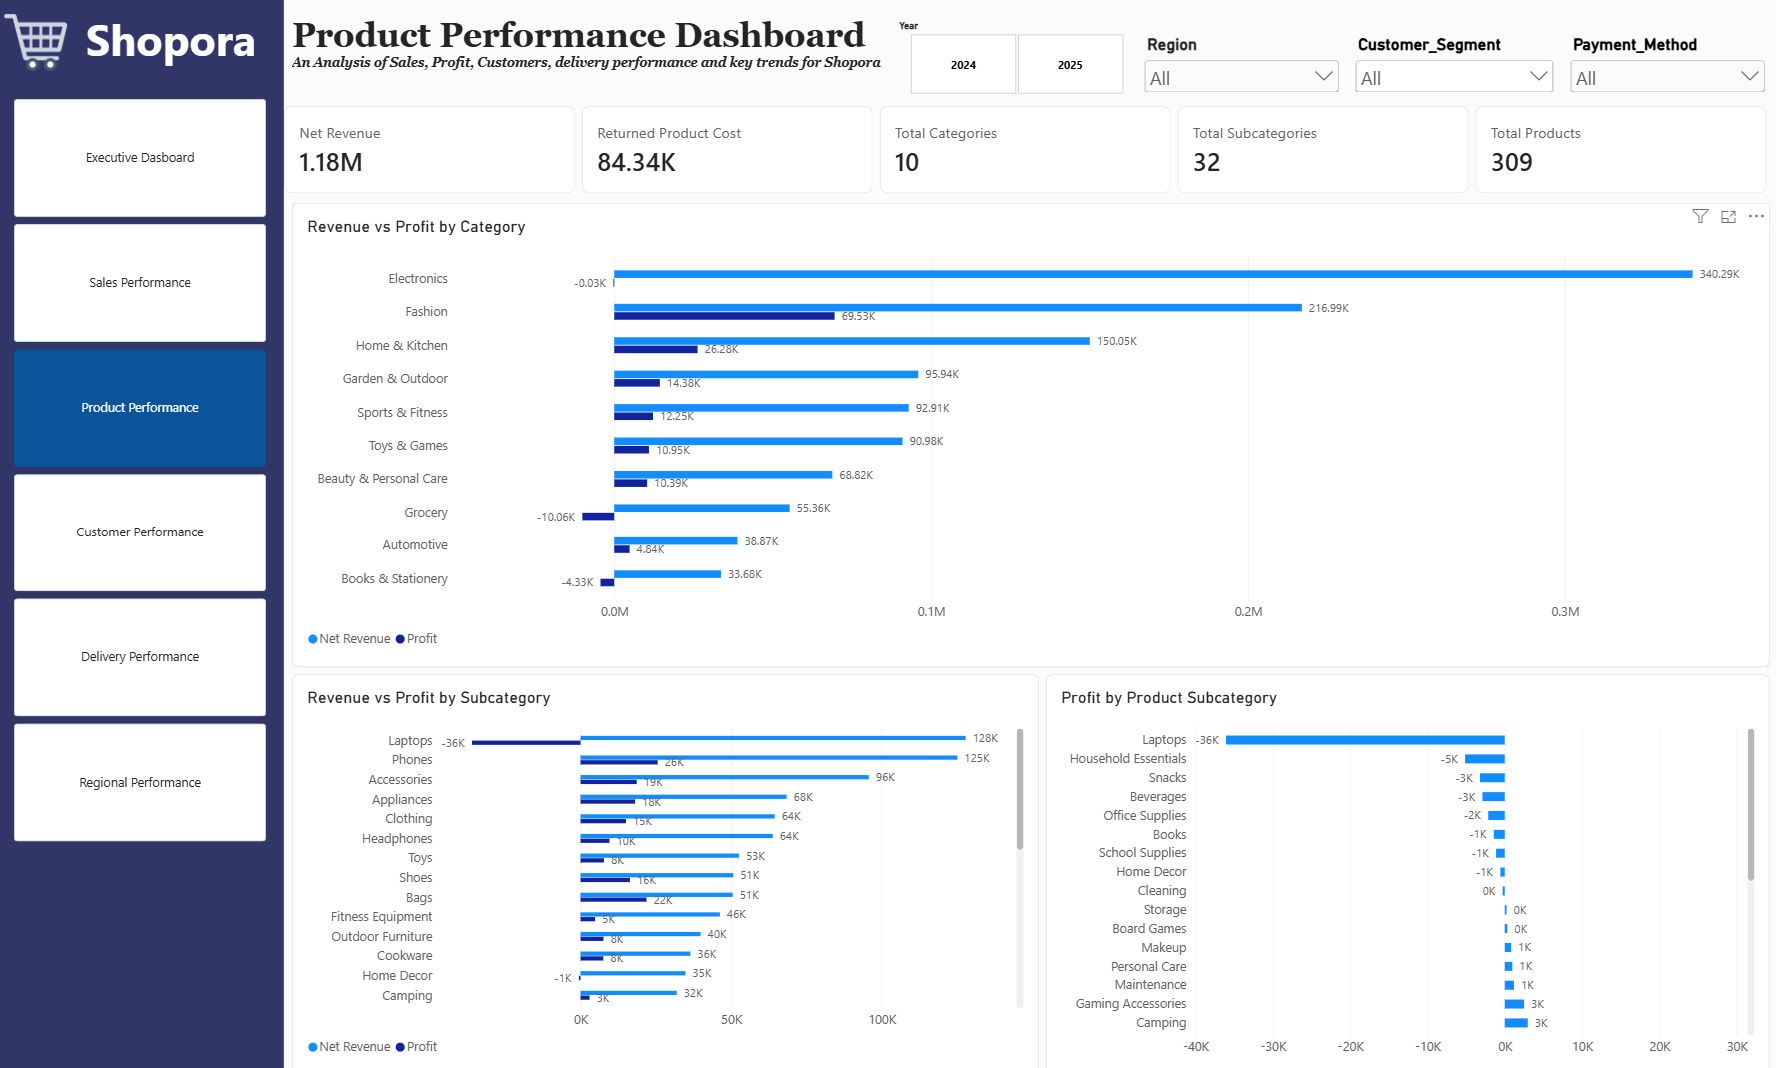

The page's visual inventory and layout, read from the dashboard file:
{"tool":"powerbi","page":{"name":"Product Performance","canvas":[1990,1200],"ordinal":2},"visuals":[{"type":"textbox","box":[100,14.4,202.2,74.4],"z":0,"group":"g3"},{"type":"clusteredBarChart","title":"Profit by Product Subcategory","fields":{"Category":["Products.Subcategory"],"Y":["Calculated Measures.Profit"]},"box":[1166.7,754.4,804.4,445.6],"z":0},{"type":"image","box":[0,16.6,88.9,70],"z":1000,"group":"g3"},{"type":"cardVisual","fields":{"Data":["Calculated Measures.Net Revenue","Calculated Measures.Returned Product Cost","Calculated Measures.Total Categories","Calculated Measures.Total Subcategories","Calculated Measures.Total Products"]},"box":[320,122,1651,97],"z":1000},{"type":"shape","box":[0,0,320,1200],"z":6000},{"type":"clusteredBarChart","title":"Revenue vs Profit by Subcategory","fields":{"Category":["Products.Subcategory"],"Y":["Calculated Measures.Net Revenue","Calculated Measures.Profit"]},"box":[328.9,754.4,830,445.6],"z":7000},{"type":"clusteredBarChart","title":"Revenue vs Profit by Category","fields":{"Category":["Products.Category"],"Y":["Calculated Measures.Net Revenue","Calculated Measures.Profit"]},"box":[328.9,230,1642.2,516.7],"z":8000},{"type":"group","id":"g1","title":"Group 2","box":[0,14.4,302.2,930],"z":8001},{"type":"group","id":"g2","title":"Group 3","box":[328.9,22.2,1641.1,92.2],"z":8002},{"type":"slicer","fields":{"Values":["Orders.Year"]},"box":[995.6,26.6,275.6,84.4],"z":10000,"group":"g2"},{"type":"slicer","fields":{"Values":["Customers.Region"]},"box":[1271.1,43.3,225.6,63.3],"z":11000,"group":"g2"},{"type":"slicer","fields":{"Values":["Customers.Customer_Segment"]},"box":[1505.6,43.3,230,63.3],"z":12000,"group":"g2"},{"type":"textbox","box":[328.9,22.2,666.7,92.2],"z":13000,"group":"g2"},{"type":"pageNavigator","box":[20,114.4,280,830],"z":15000,"group":"g1"},{"type":"group","id":"g3","title":"Group 1","box":[0,14.4,302.2,74.4],"z":16000,"group":"g1"},{"type":"slicer","fields":{"Values":["Orders.Payment_Method"]},"box":[1744.5,43.3,225.6,63.3],"z":16002,"group":"g2"}]}

Visuals, with their boxes on the page's 1990x1200 design canvas (x1, y1, x2, y2). These are canvas units, not pixel positions in the 1776x1068 screenshot, which may show the page scaled, cropped or inside an application window:
textbox: rect(100, 14, 302, 89)
"Profit by Product Subcategory" clusteredBarChart: rect(1167, 754, 1971, 1200)
image: rect(0, 17, 89, 87)
cardVisual - Calculated Measures.Net Revenue x Calculated Measures.Returned Product Cost: rect(320, 122, 1971, 219)
shape: rect(0, 0, 320, 1200)
"Revenue vs Profit by Subcategory" clusteredBarChart: rect(329, 754, 1159, 1200)
"Revenue vs Profit by Category" clusteredBarChart: rect(329, 230, 1971, 747)
"Group 2" group: rect(0, 14, 302, 944)
"Group 3" group: rect(329, 22, 1970, 114)
slicer - Orders.Year: rect(996, 27, 1271, 111)
slicer - Customers.Region: rect(1271, 43, 1497, 107)
slicer - Customers.Customer_Segment: rect(1506, 43, 1736, 107)
textbox: rect(329, 22, 996, 114)
pageNavigator: rect(20, 114, 300, 944)
"Group 1" group: rect(0, 14, 302, 89)
slicer - Orders.Payment_Method: rect(1744, 43, 1970, 107)
